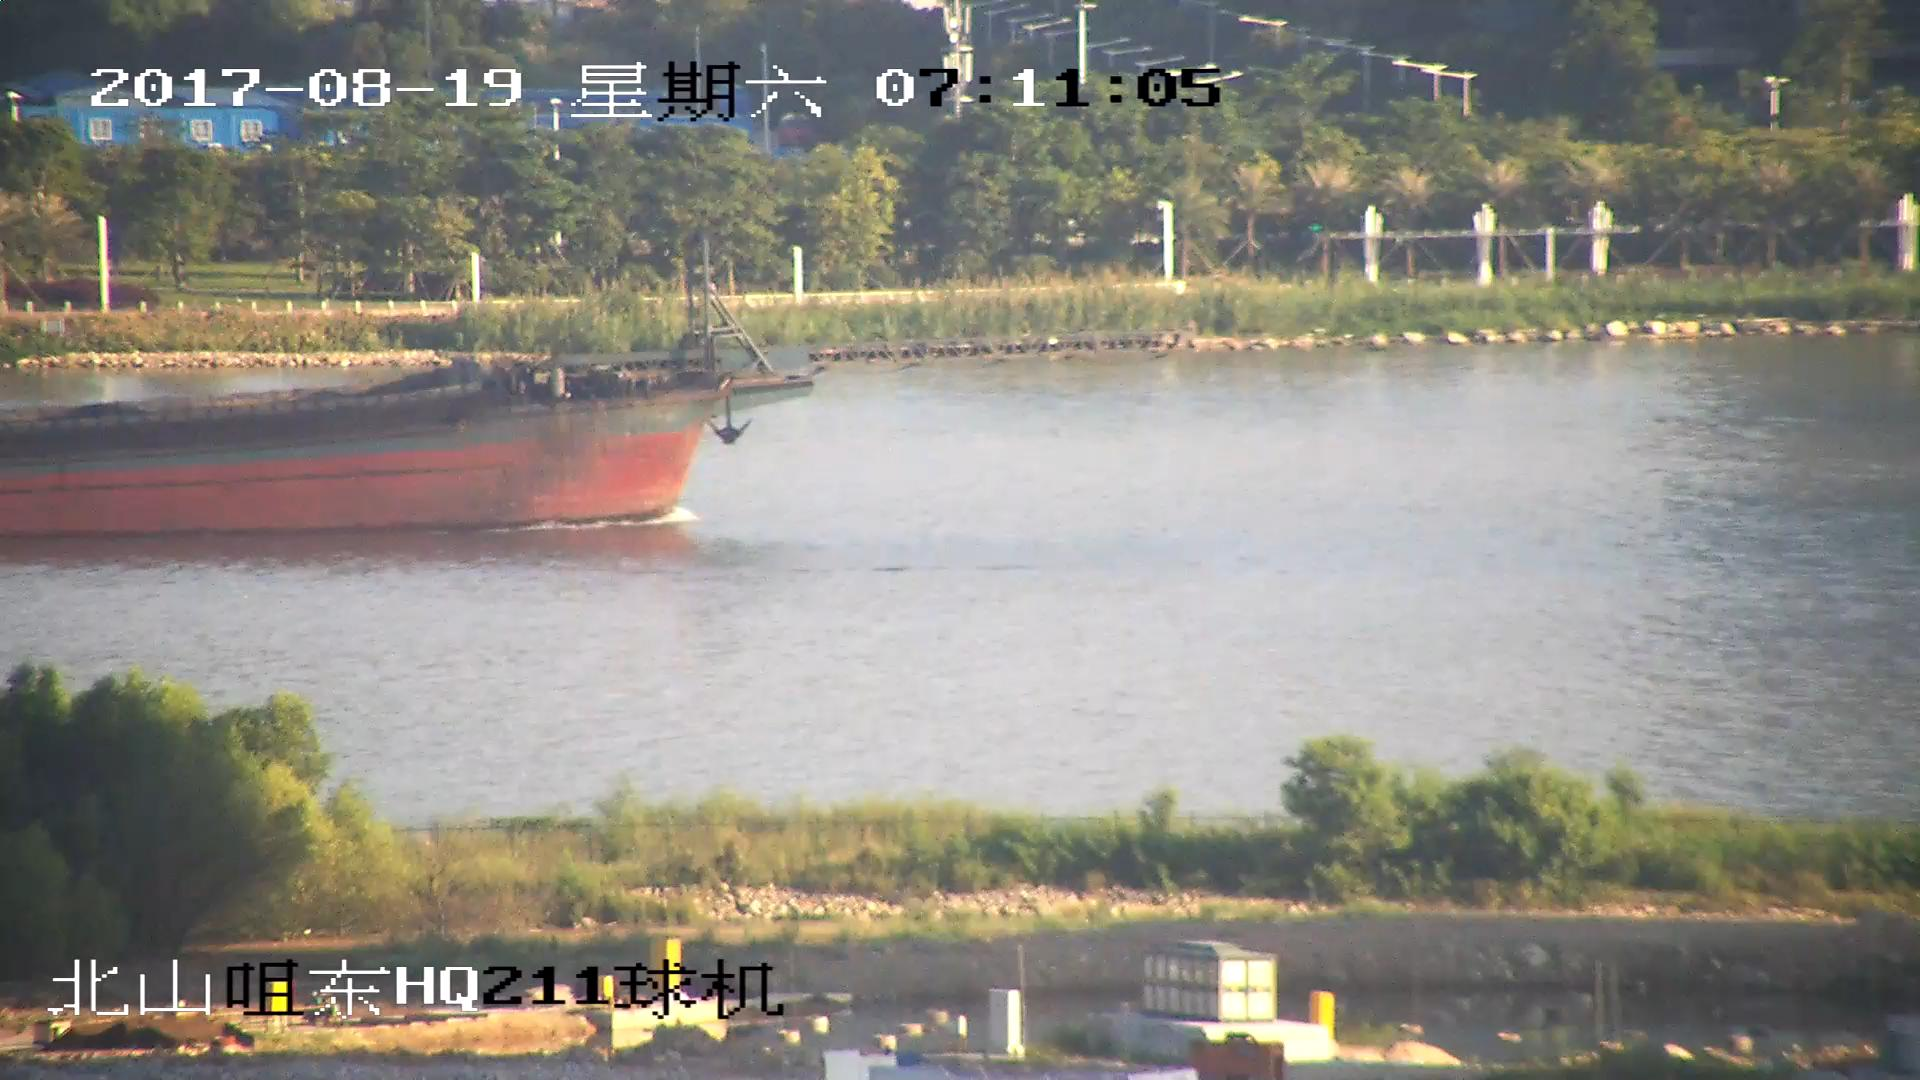bulk cargo carrier: (1, 240, 1173, 531)
